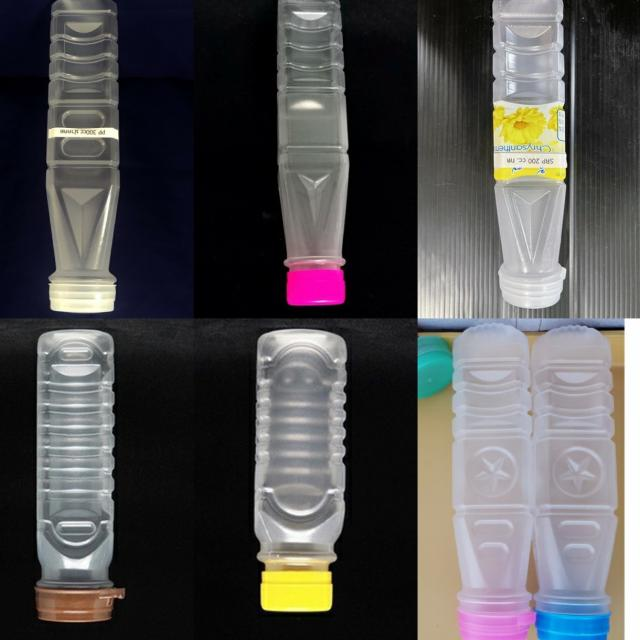plastik: (531, 326, 617, 640), (254, 329, 348, 612), (35, 329, 124, 623), (453, 324, 535, 640), (492, 0, 567, 309), (46, 0, 119, 313), (277, 0, 349, 305)
